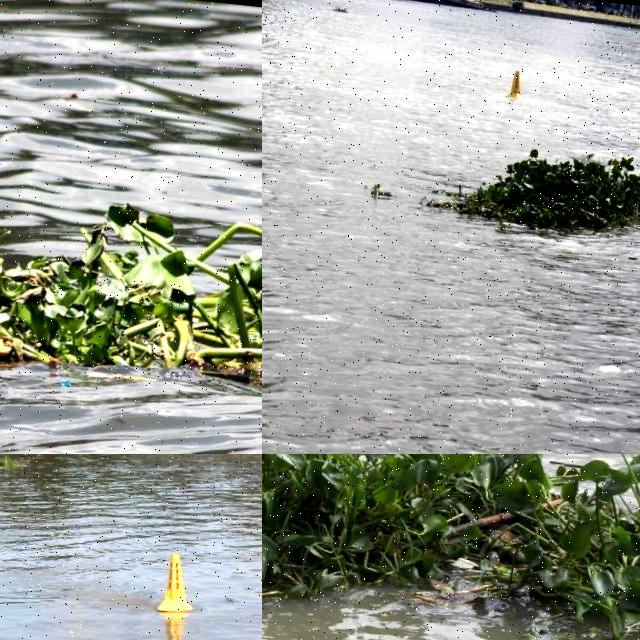water-hyacinth: (263, 455, 640, 640), (1, 184, 263, 426), (429, 138, 640, 249)
